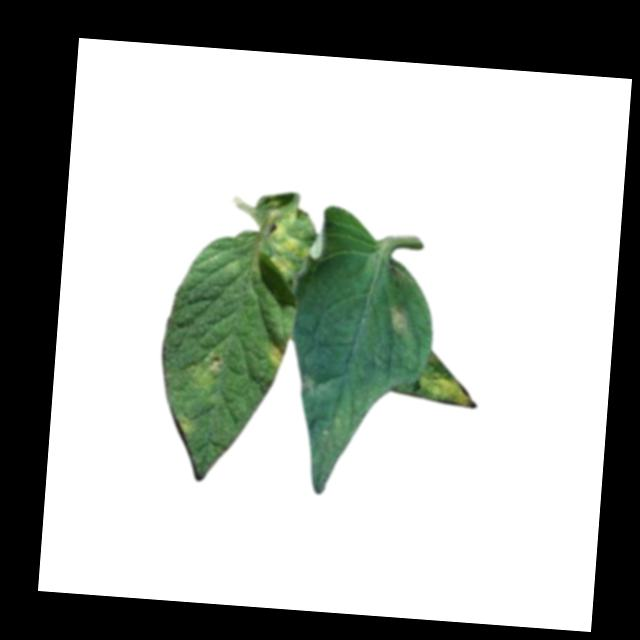Leaf_Mold: (257, 195, 313, 285), (416, 352, 478, 409), (261, 333, 293, 369), (384, 308, 408, 342), (173, 409, 199, 437)
